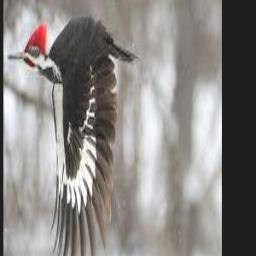Woodpecker: (7, 19, 137, 256)
